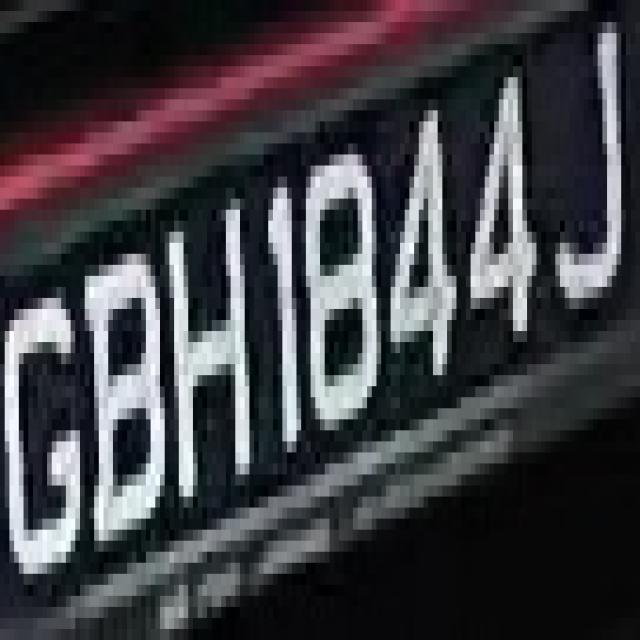1: (250, 165, 316, 508)
4: (367, 78, 471, 430), (452, 77, 550, 386)
8: (287, 132, 391, 452)
B: (76, 220, 170, 562)
G: (5, 220, 80, 562)
H: (160, 154, 259, 518)
J: (546, 33, 640, 386)
